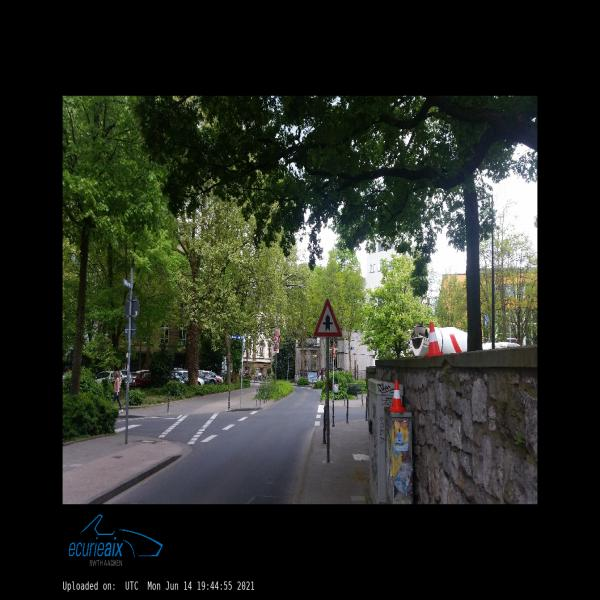orange_cone: (424, 322, 443, 356), (390, 380, 406, 412)
